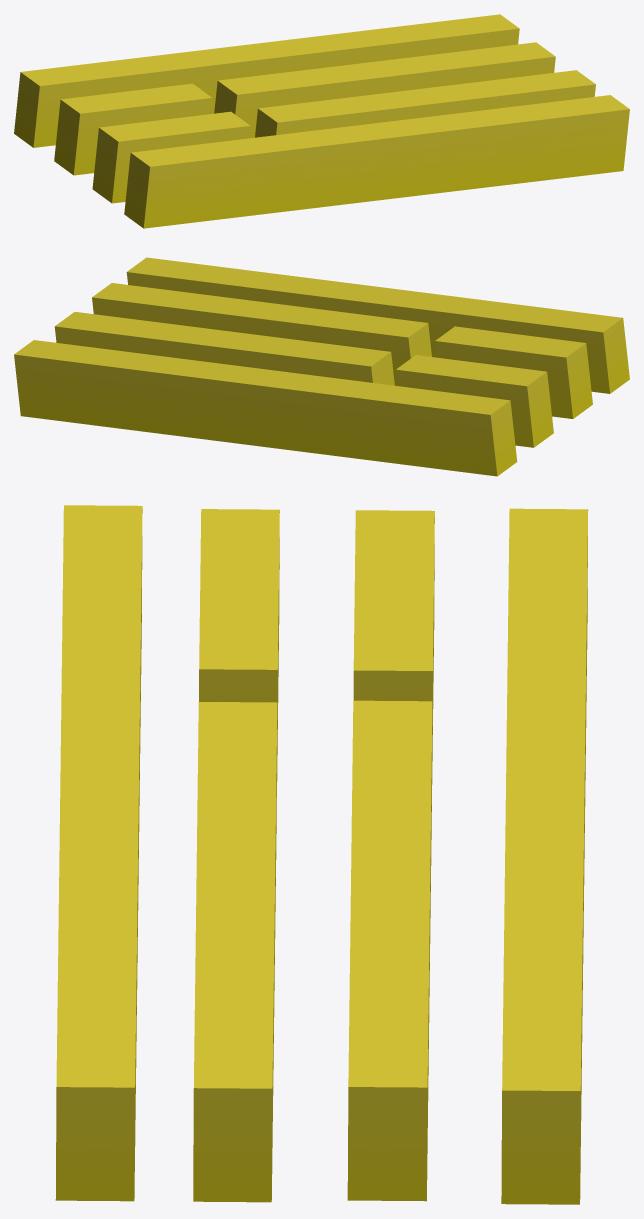
3 views of the same model, one above another, from view 1: azimuth 30°, elevation 25°; view 2: azimuth 150°, elevation 25°; view 3: azimuth 270°, elevation 25° (orthographic). The views are drawn at different scales.
Size of what is drawn, in the model's own units: 0.8985 by 0.2103 by 0.4262.
Materials: 1 (1 with a texture image).
